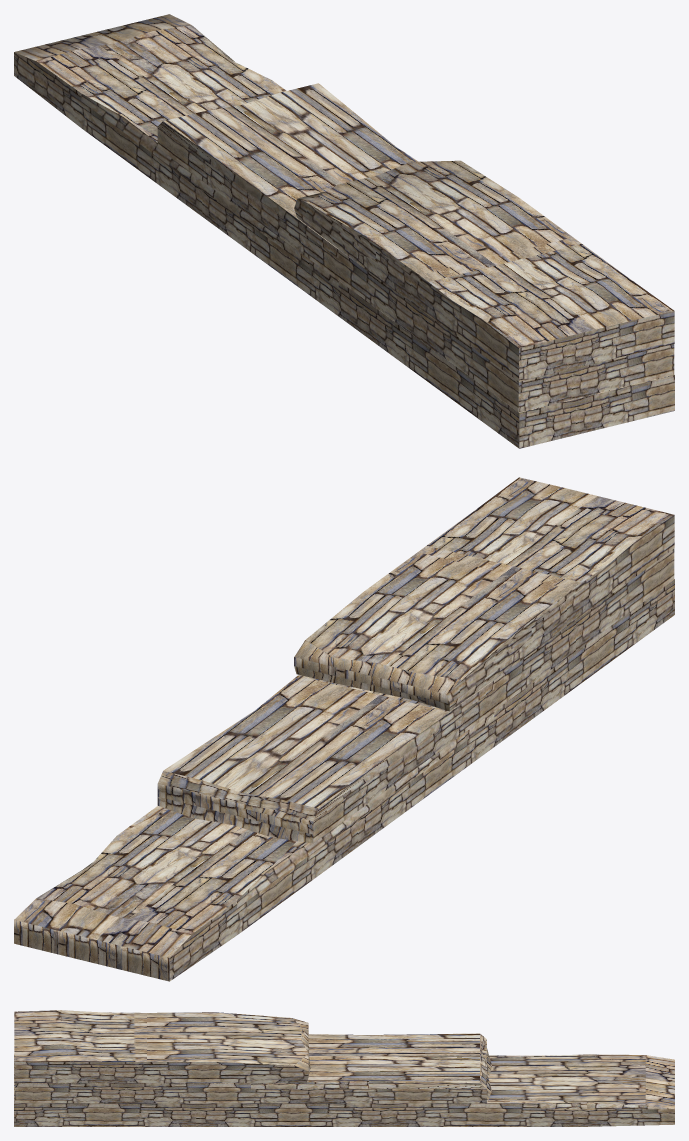
The model's file is AncientDocks.fbx.
The picture shows the model from 3 angles, top to bottom: view 1: azimuth 30°, elevation 25°; view 2: azimuth 150°, elevation 25°; view 3: azimuth 270°, elevation 25°; orthographic projection. The views are drawn at different scales.
Parts seen in each view (by area): view 1: Box001; view 2: Box001; view 3: Box001.
Part boxes in pixels (bbox=[...]): Box001: bbox=[14, 14, 674, 448]; Box001: bbox=[14, 477, 674, 981]; Box001: bbox=[14, 1010, 674, 1126].
Size of the model in its own units: 30.99 by 19.79 by 174.
